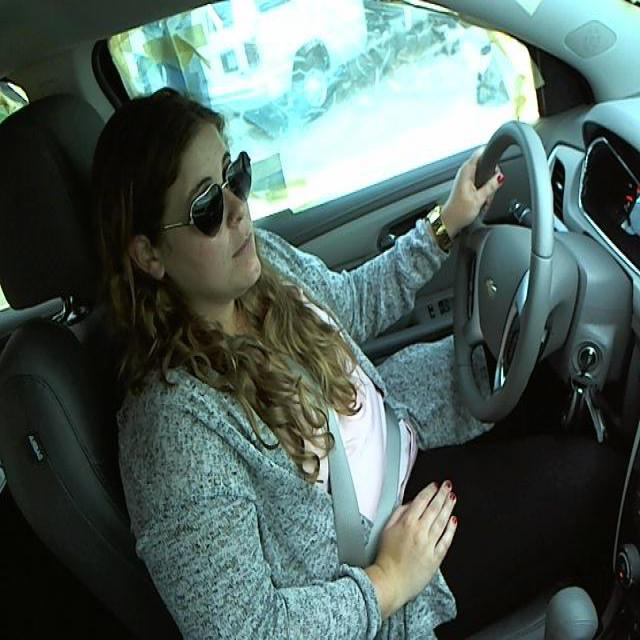seatbelt: (280, 344, 414, 557)
